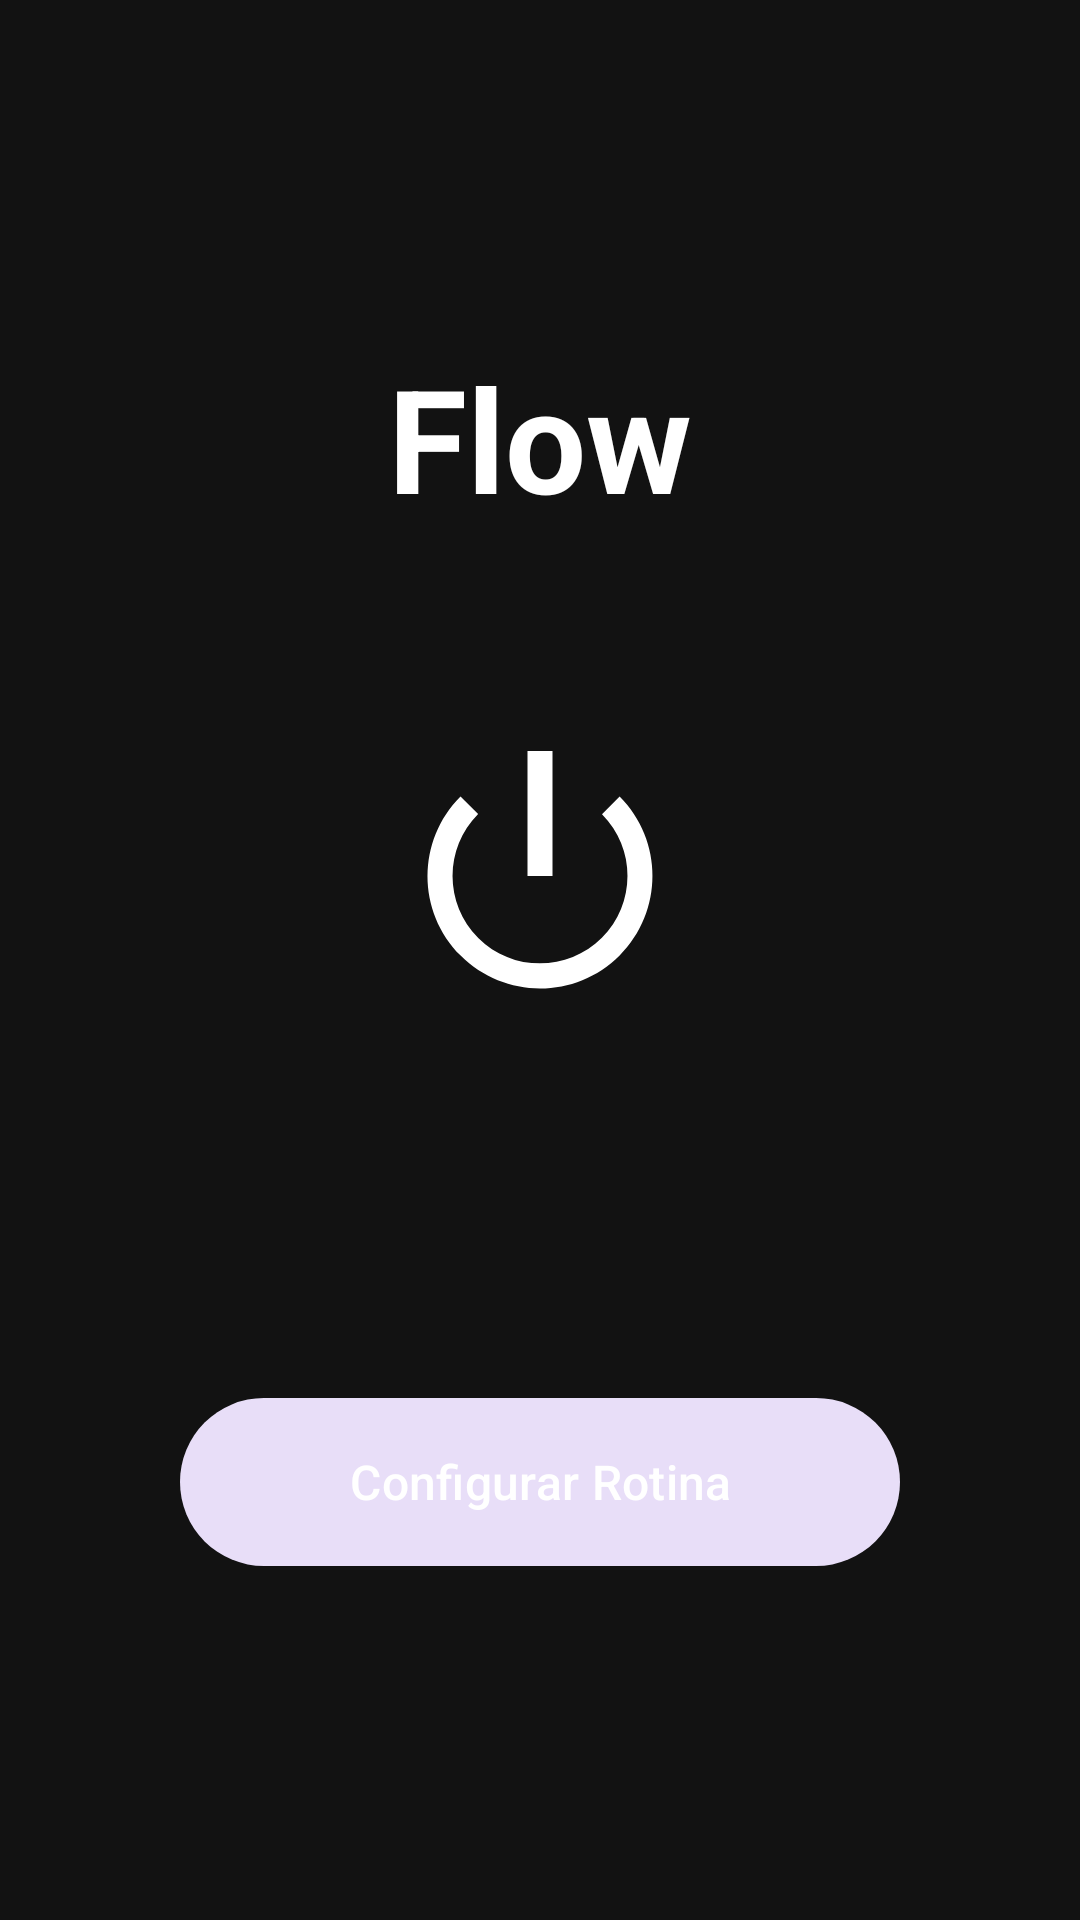

Locate icon controls on the screen. Image size 1080px x 1920px, boxes as {"x1": x1, "y1": y1, "x2": x2, "y2": y2}.
lock power off: {"x1": 427, "y1": 751, "x2": 653, "y2": 989}
